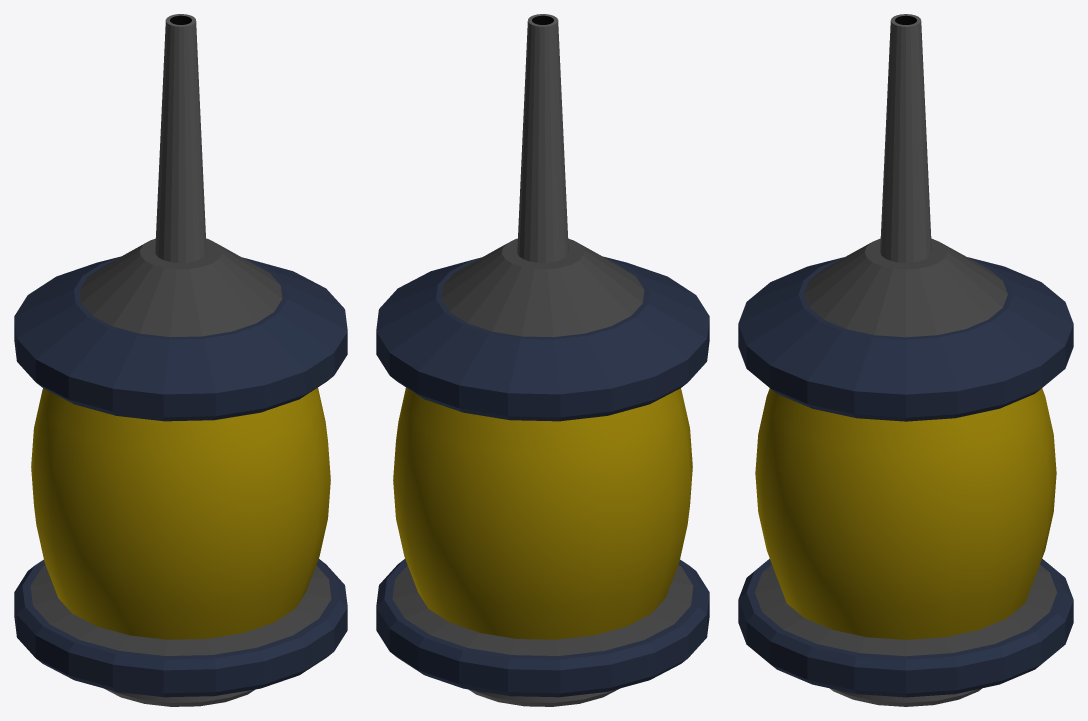
File: PaintInjector.fbx
3 renders of one model, left to right at view 1: azimuth 30°, elevation 25°; view 2: azimuth 150°, elevation 25°; view 3: azimuth 270°, elevation 25°, orthographic.
Parts seen in each view (by area): view 1: pCylinder1; view 2: pCylinder1; view 3: pCylinder1.
Boxes of the visible parts, x1,y1,x2,y2 form: pCylinder1: (14, 14, 347, 706); pCylinder1: (376, 14, 709, 706); pCylinder1: (738, 14, 1073, 706).
Size of the model in its own units: 2.14 by 4.56 by 2.14.
